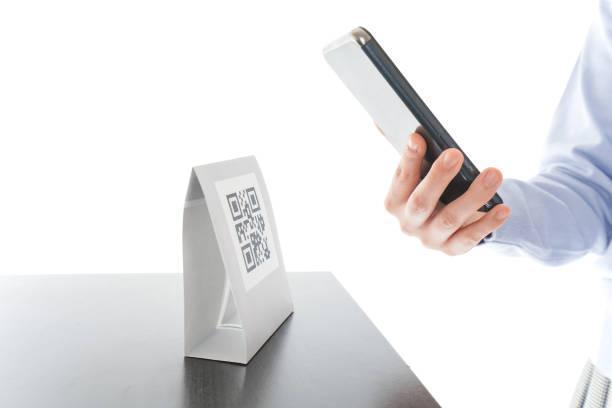qr_code: (226, 187, 270, 273)
